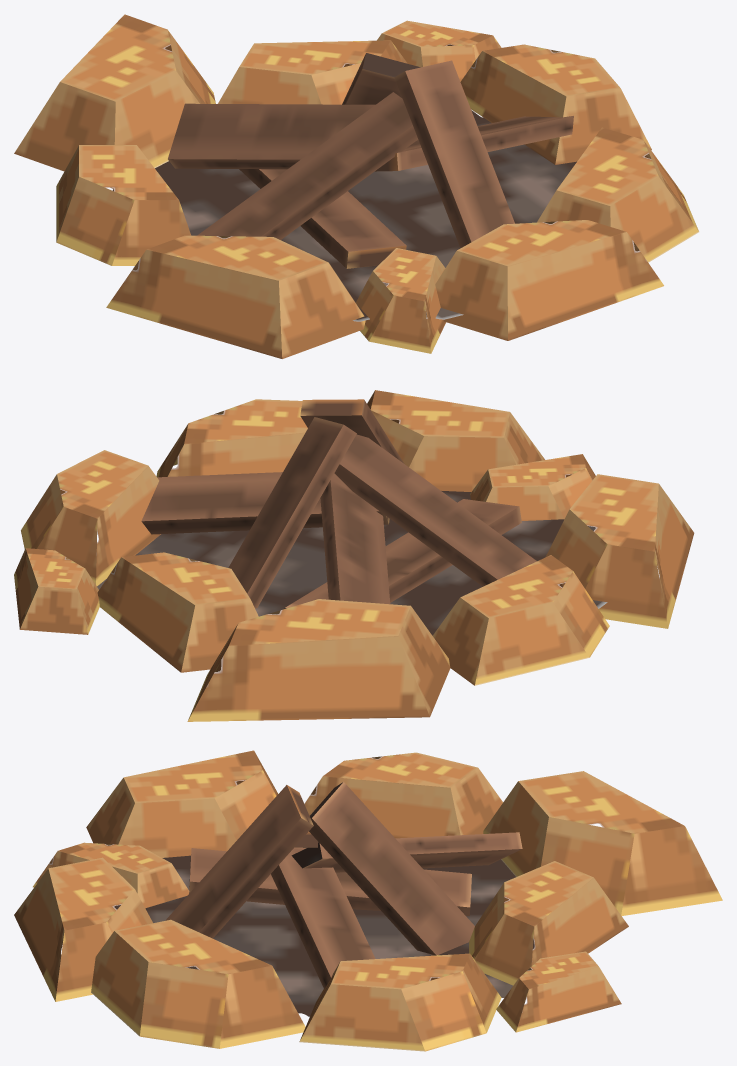
File: SM_FireCamp.FBX
The picture shows the model from 3 angles, top to bottom: view 1: azimuth 30°, elevation 25°; view 2: azimuth 150°, elevation 25°; view 3: azimuth 270°, elevation 25°; orthographic projection. The views are drawn at different scales.
Visible parts, largest first — view 1: Box269; view 2: Box269; view 3: Box269.
Part boxes in pixels (bbox=[...]): Box269: bbox=[14, 14, 698, 358]; Box269: bbox=[14, 390, 694, 721]; Box269: bbox=[14, 750, 722, 1051].
Size of the model in its own units: 39.94 by 12.96 by 44.53.
